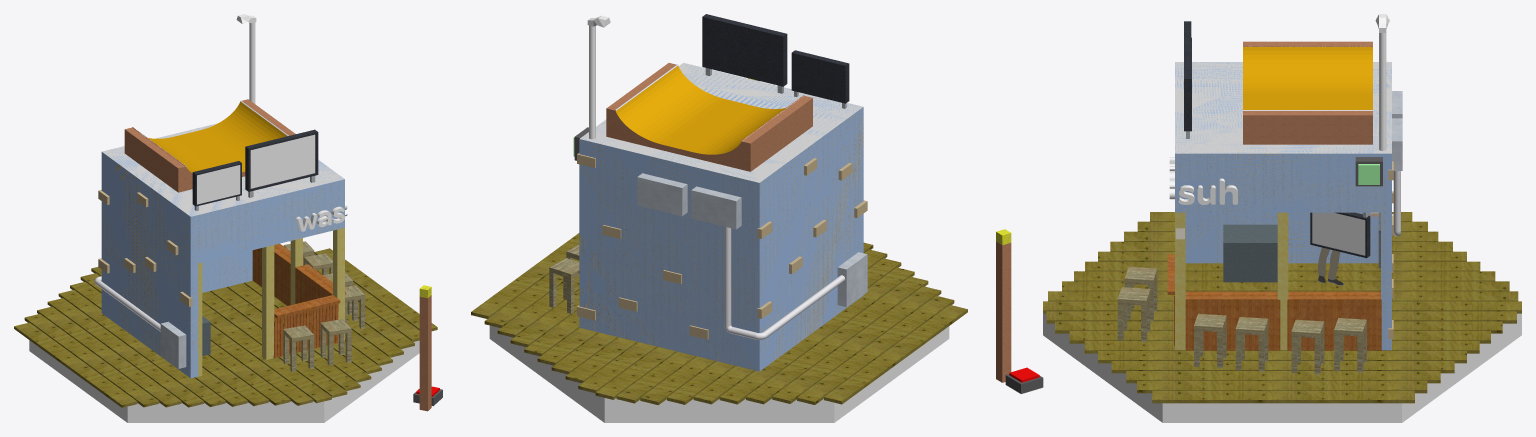
File: seabar.glb
3 views of the same model, side by side, from view 1: azimuth 30°, elevation 25°; view 2: azimuth 150°, elevation 25°; view 3: azimuth 270°, elevation 25° (orthographic). The views are drawn at different scales.
Visible parts, largest first — view 1: group_47.001, group_33, group_39.002, group_47.002, group_52, group_13, group_39.001, group_18, group_11, group_4, group_5, group_36 (+31 smaller); view 2: group_47.001, group_33, group_39.002, group_47.002, group_39.001, group_49, group_13, group_18, group_11, group_4, group_5, group_41 (+20 smaller); view 3: group_47.001, group_33, group_39.002, group_47.002, group_39.001, group_19, group_3, group_45, group_16, group_12, group_34, group_82 (+31 smaller).
Part boxes in pixels (box(x1,y1,x2,y2)): group_47.001: box(101, 152, 344, 378); group_33: box(29, 340, 419, 422); group_39.002: box(148, 102, 287, 173); group_47.002: box(102, 123, 344, 216); group_52: box(250, 134, 315, 188); group_13: box(47, 298, 203, 407); group_39.001: box(124, 99, 295, 192); group_18: box(58, 290, 225, 406); group_11: box(37, 306, 181, 407); group_4: box(24, 314, 159, 407); group_5: box(14, 322, 137, 407); group_36: box(202, 302, 331, 403); group_47.001: box(579, 107, 863, 371); group_33: box(489, 325, 949, 422); group_39.002: box(616, 66, 785, 154); group_47.002: box(580, 63, 863, 182); group_39.001: box(606, 63, 812, 171); group_49: box(702, 14, 787, 86); group_13: box(746, 276, 928, 404); group_18: box(719, 267, 914, 404); group_11: box(772, 286, 941, 403); group_4: box(797, 295, 954, 404); group_5: box(824, 305, 967, 404); group_41: box(791, 50, 849, 103); group_47.001: box(1175, 153, 1391, 350); group_33: box(1043, 313, 1521, 422); group_39.002: box(1243, 47, 1372, 109); group_47.002: box(1175, 62, 1391, 153); group_39.001: box(1243, 41, 1372, 144); group_19: box(1062, 281, 1509, 291); group_3: box(1137, 380, 1427, 393); group_45: box(1223, 224, 1277, 282); group_16: box(1126, 371, 1440, 383); group_12: box(1074, 271, 1495, 281); group_34: box(1111, 361, 1454, 373); group_82: box(1098, 351, 1466, 363).
Size of the model in its own units: 6.25 by 5.49 by 7.39.
Materials: 36 (19 with a texture image).
